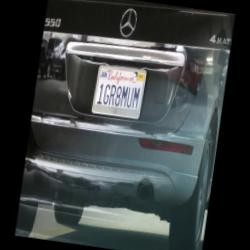LicensePlate: (88, 55, 148, 128)
